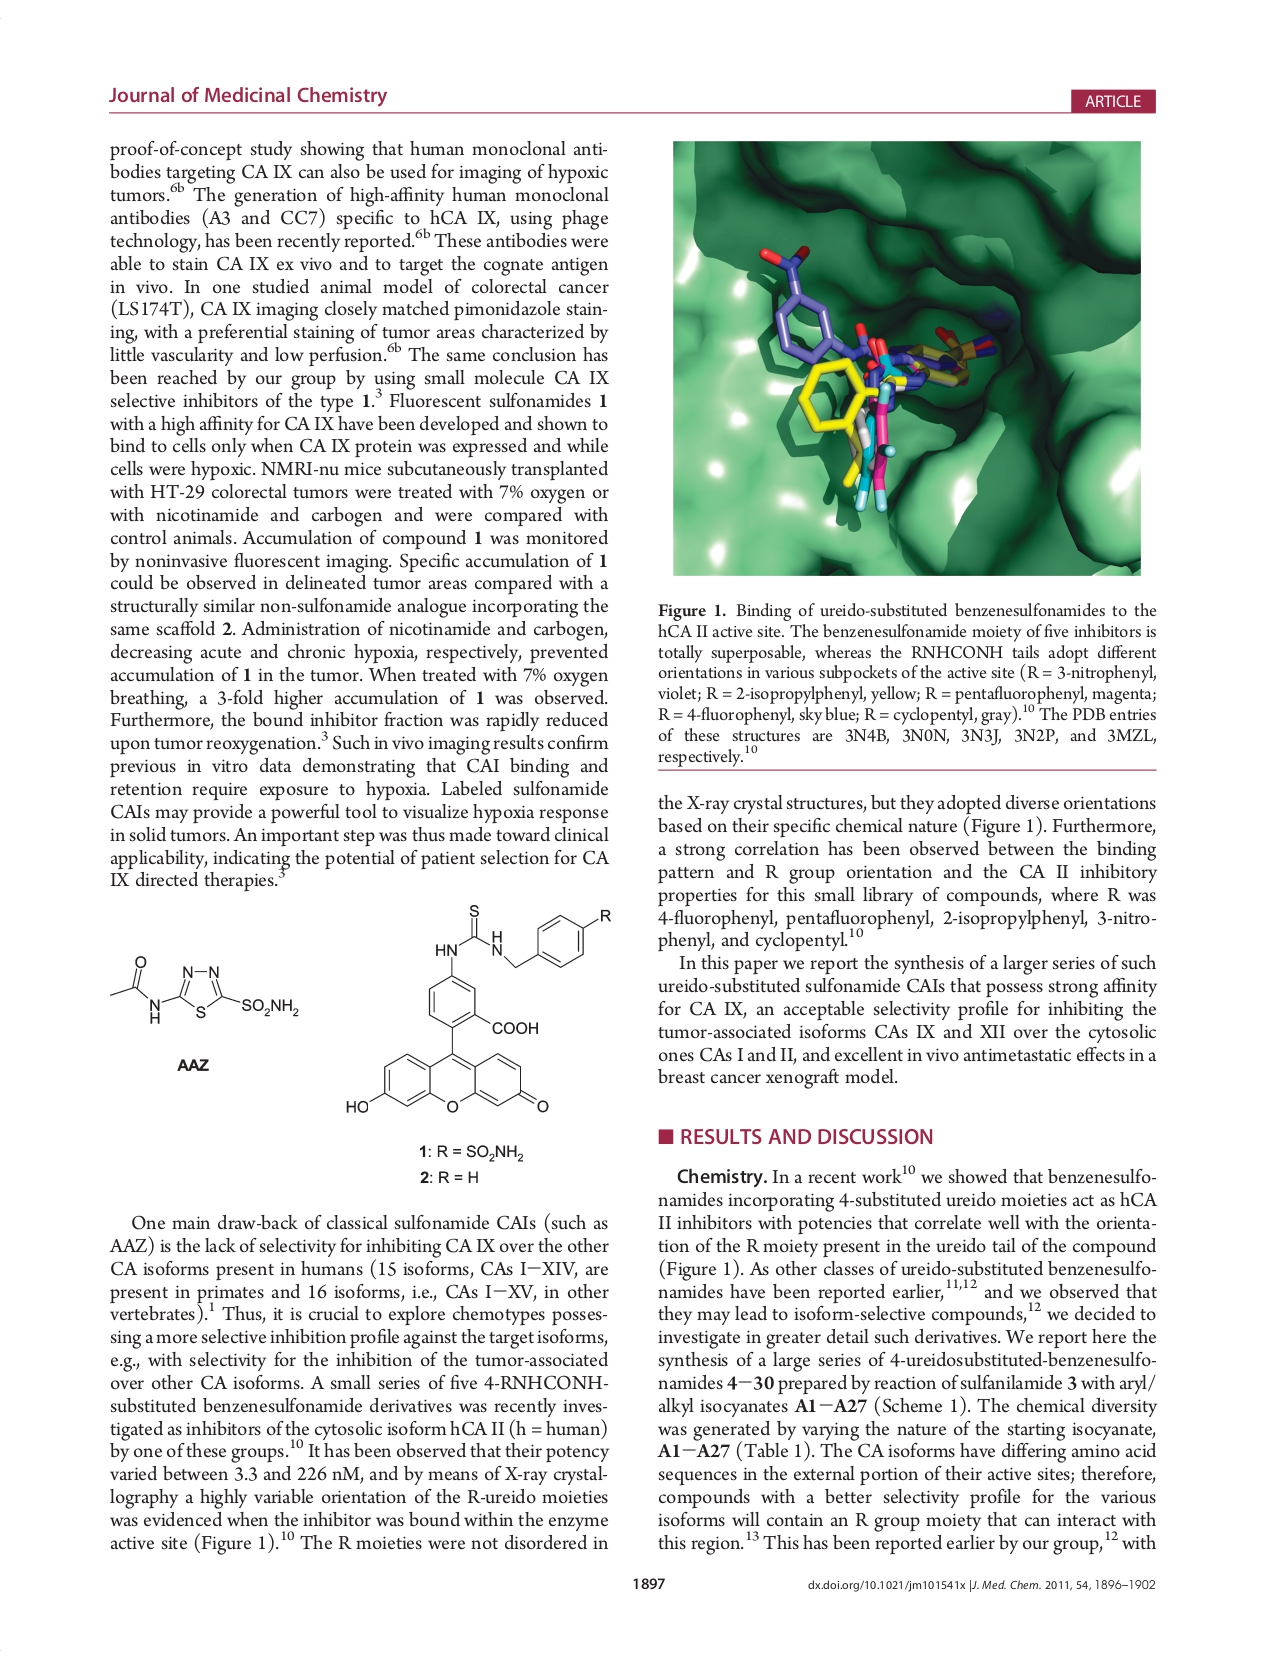exist_molecular: (343, 900, 614, 1120), (98, 946, 311, 1036)
